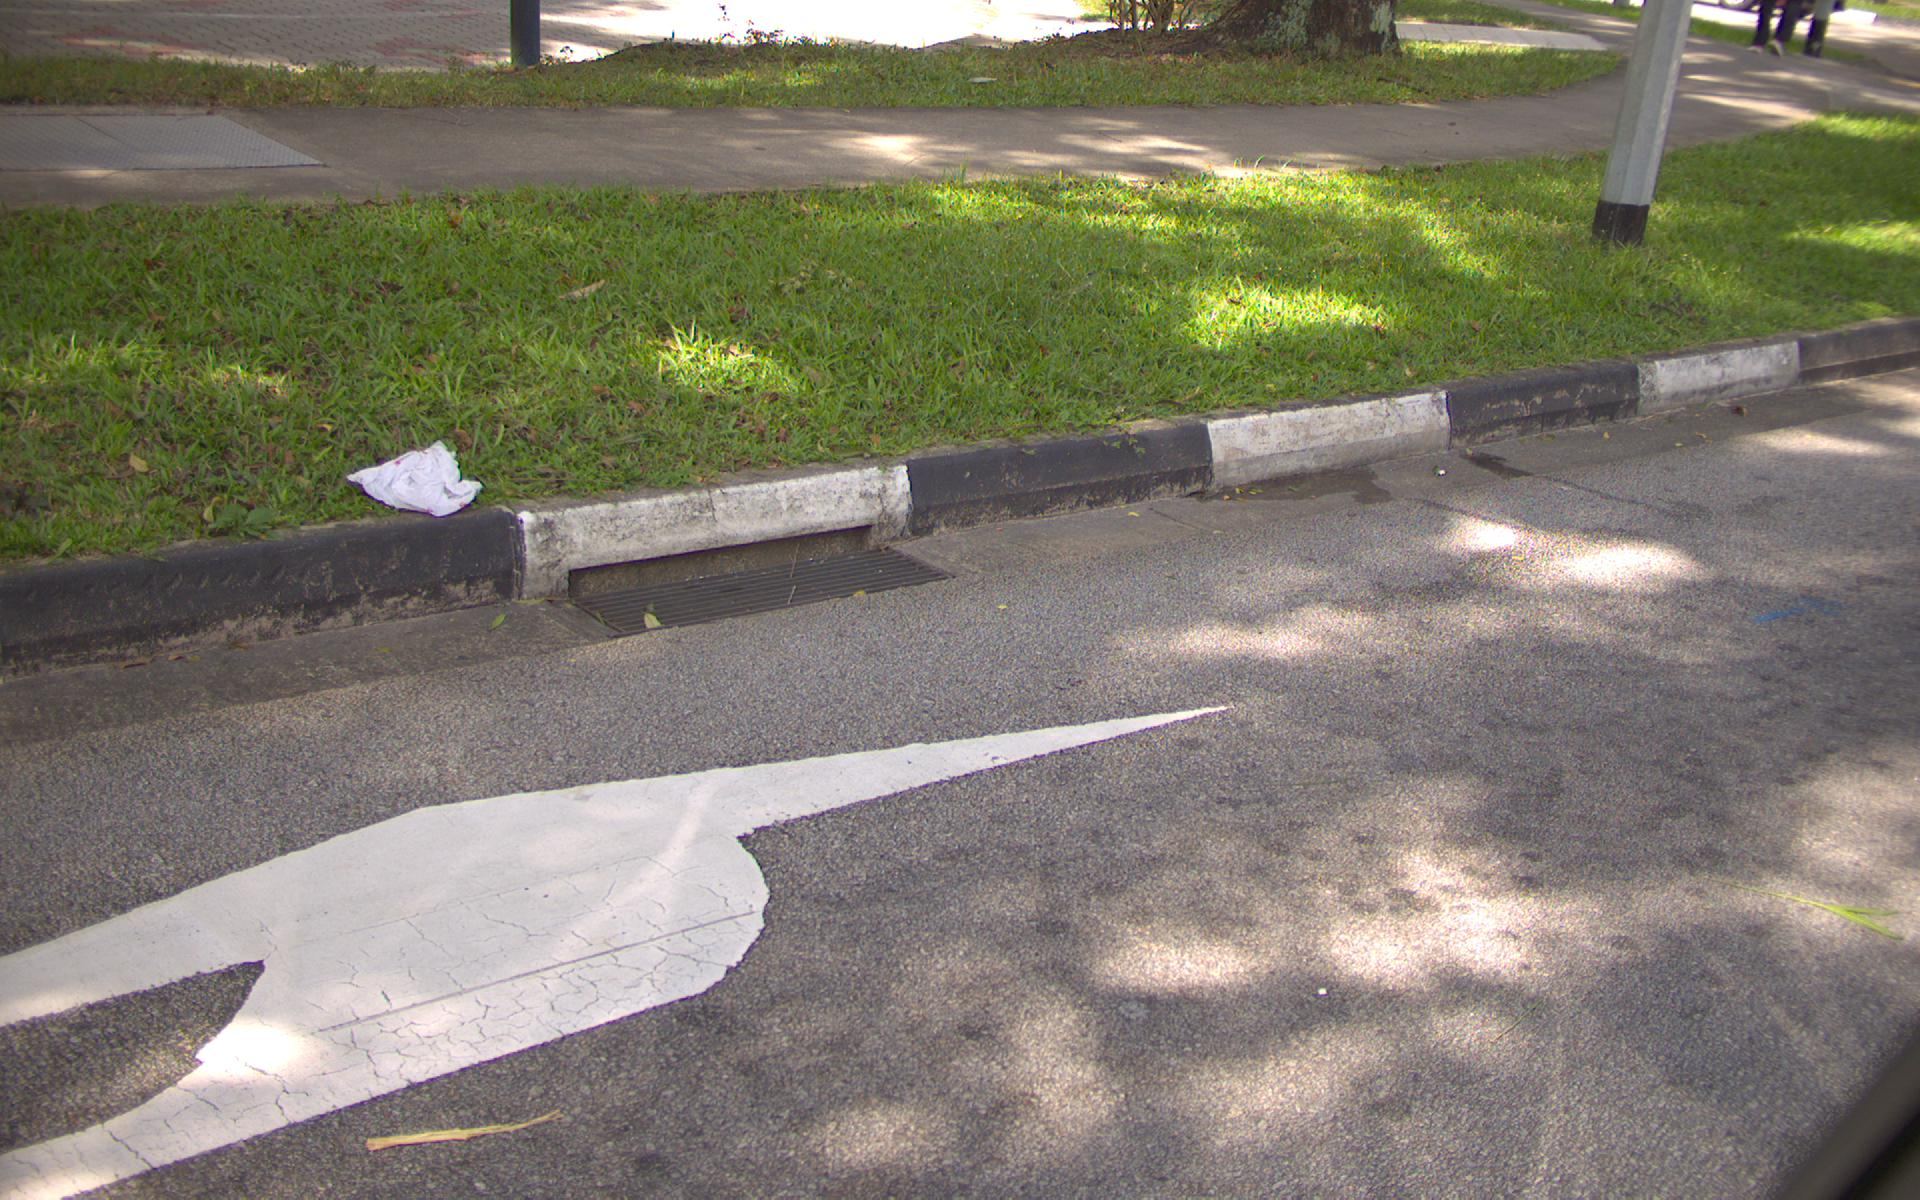curb_dic_low: (540, 505, 968, 646)
pathway_low: (12, 111, 1489, 169)
road_turf_low: (12, 212, 1019, 427)
